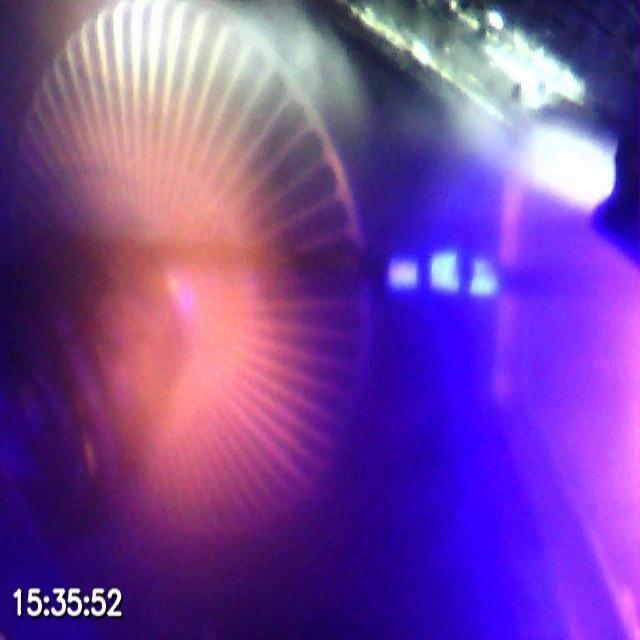white-dots: (387, 251, 501, 301)
